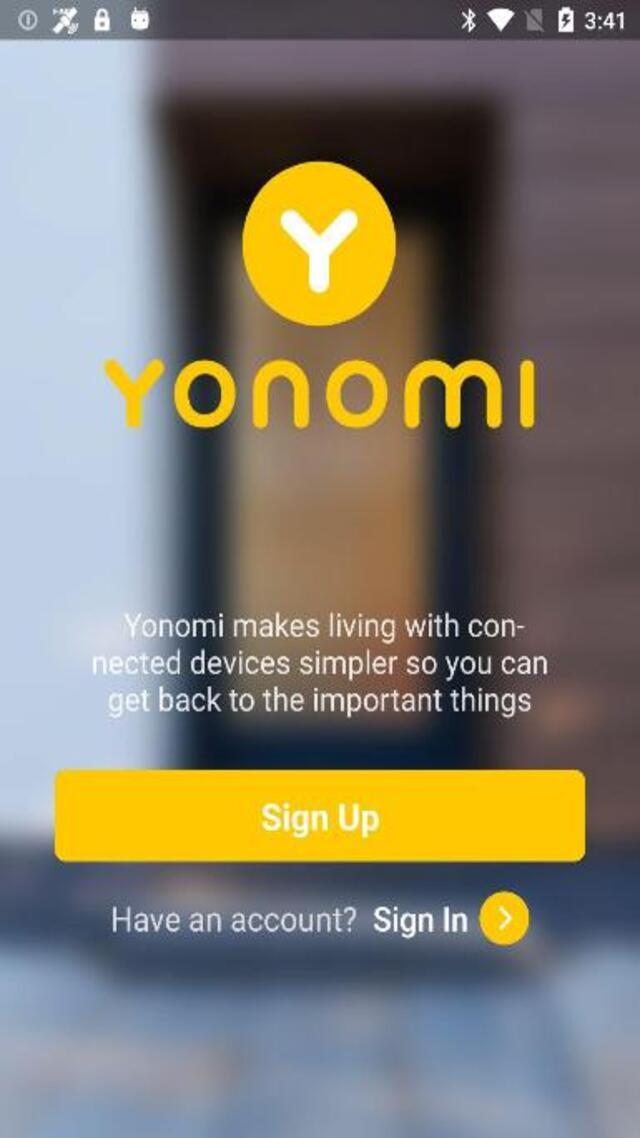Icon: (478, 891, 528, 944)
Image: (103, 359, 534, 428), (242, 161, 396, 326)
Text: (119, 609, 531, 647), (105, 688, 538, 723), (89, 652, 552, 682), (109, 903, 466, 939), (259, 800, 385, 842)
TextButton: (53, 768, 585, 860)
